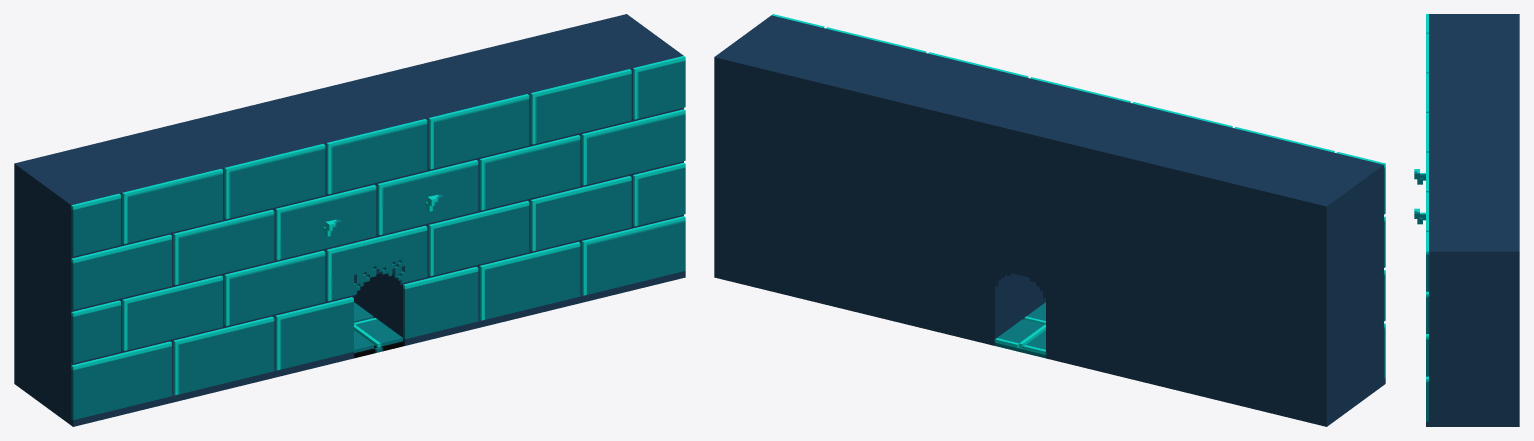
File: NorthWallBombed.glb
The picture shows the model from 3 angles, left to right: view 1: azimuth 30°, elevation 25°; view 2: azimuth 150°, elevation 25°; view 3: azimuth 270°, elevation 25°; orthographic projection. The views are drawn at different scales.
Visible parts, largest first — view 1: NorthWallBombed; view 2: NorthWallBombed; view 3: NorthWallBombed.
Boxes of the visible parts, box(x1,y1,x2,y2) form: NorthWallBombed: box(14, 14, 685, 426); NorthWallBombed: box(714, 14, 1385, 426); NorthWallBombed: box(1414, 14, 1519, 426).
Size of what is drawn, in the model's own units: 19.2 by 6.6 by 3.6.
1 material, 1 textured.
